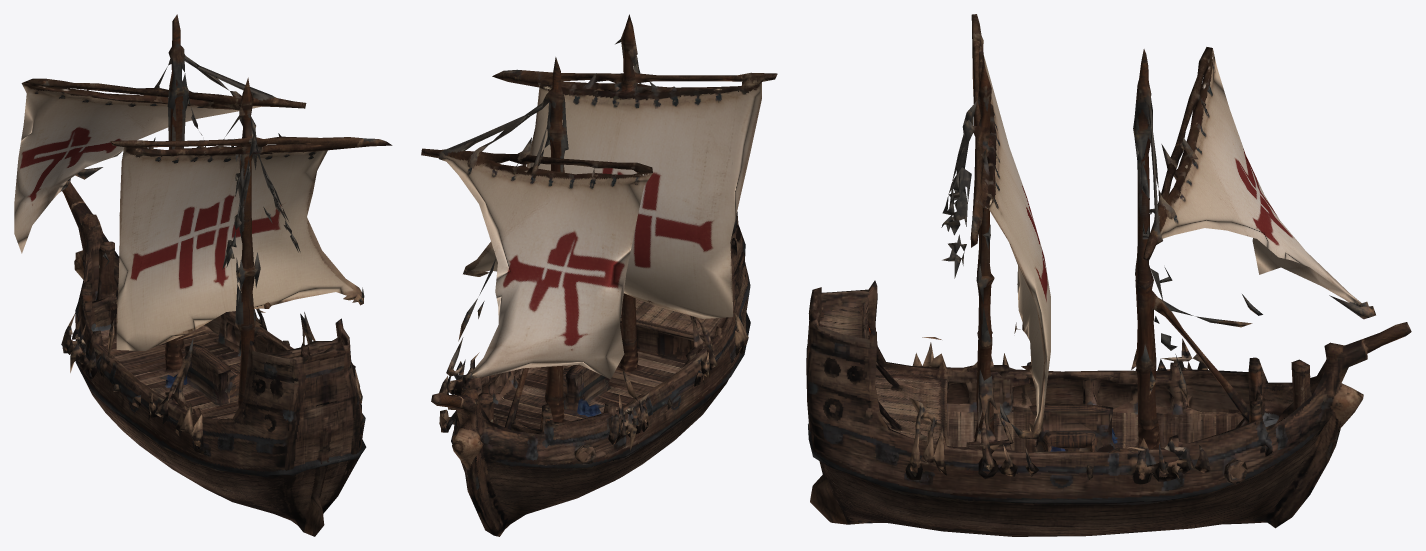
Rendered from caravel.glb.
3 views of the same model, side by side, from view 1: azimuth 30°, elevation 25°; view 2: azimuth 150°, elevation 25°; view 3: azimuth 270°, elevation 25° (orthographic). The views are drawn at different scales.
Parts seen in each view (by area): view 1: geometry_0; view 2: geometry_0; view 3: geometry_0.
Boxes of the visible parts, x1,y1,x2,y2 form: geometry_0: [14, 14, 392, 536]; geometry_0: [421, 14, 777, 536]; geometry_0: [806, 14, 1411, 536].
Size of the model in its own units: 0.6003 by 0.8723 by 0.9975.
1 material, 1 textured.
